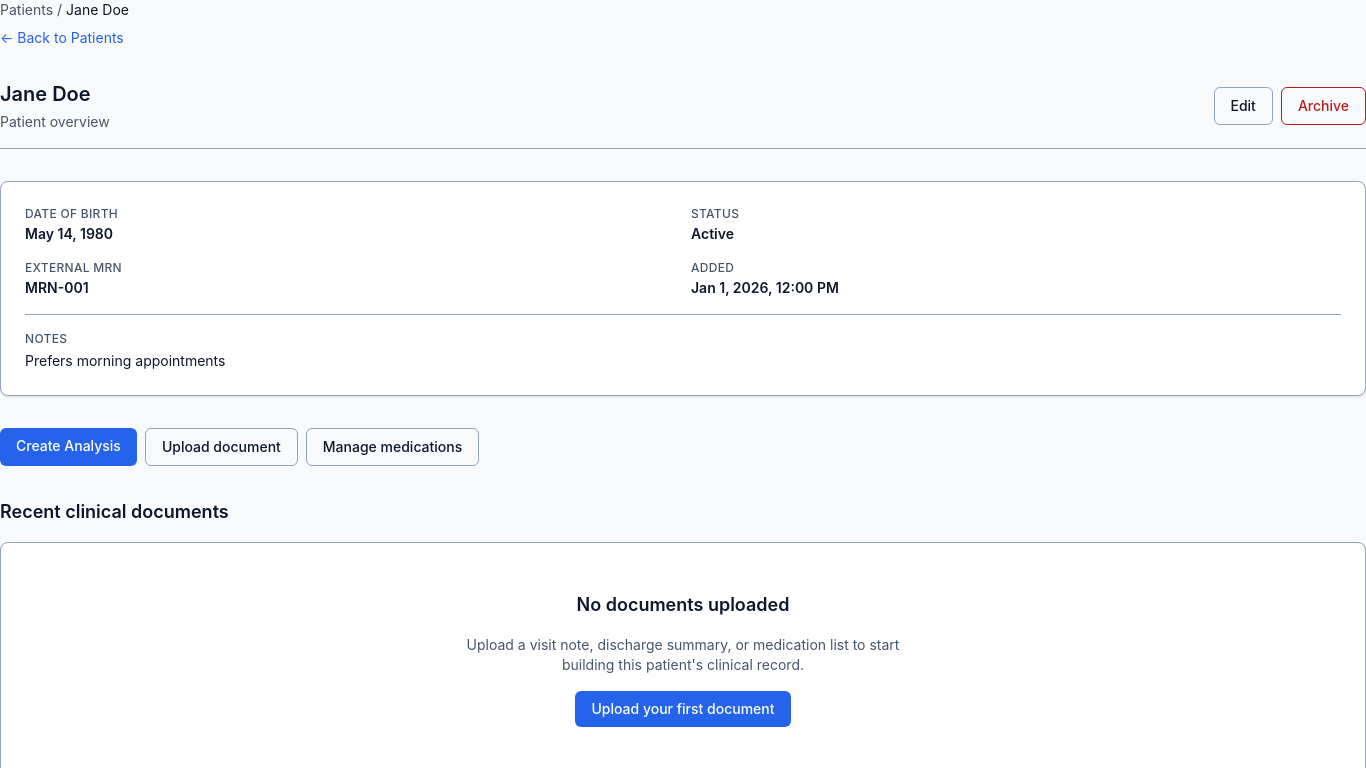
PatientOverviewPage › opens an archive confirmation dialog naming the patient
What coordinates should you click on to do the following:
click the button "Archive"
I would click on:
 (1323, 106)
Its box is [1281,87,1365,125].
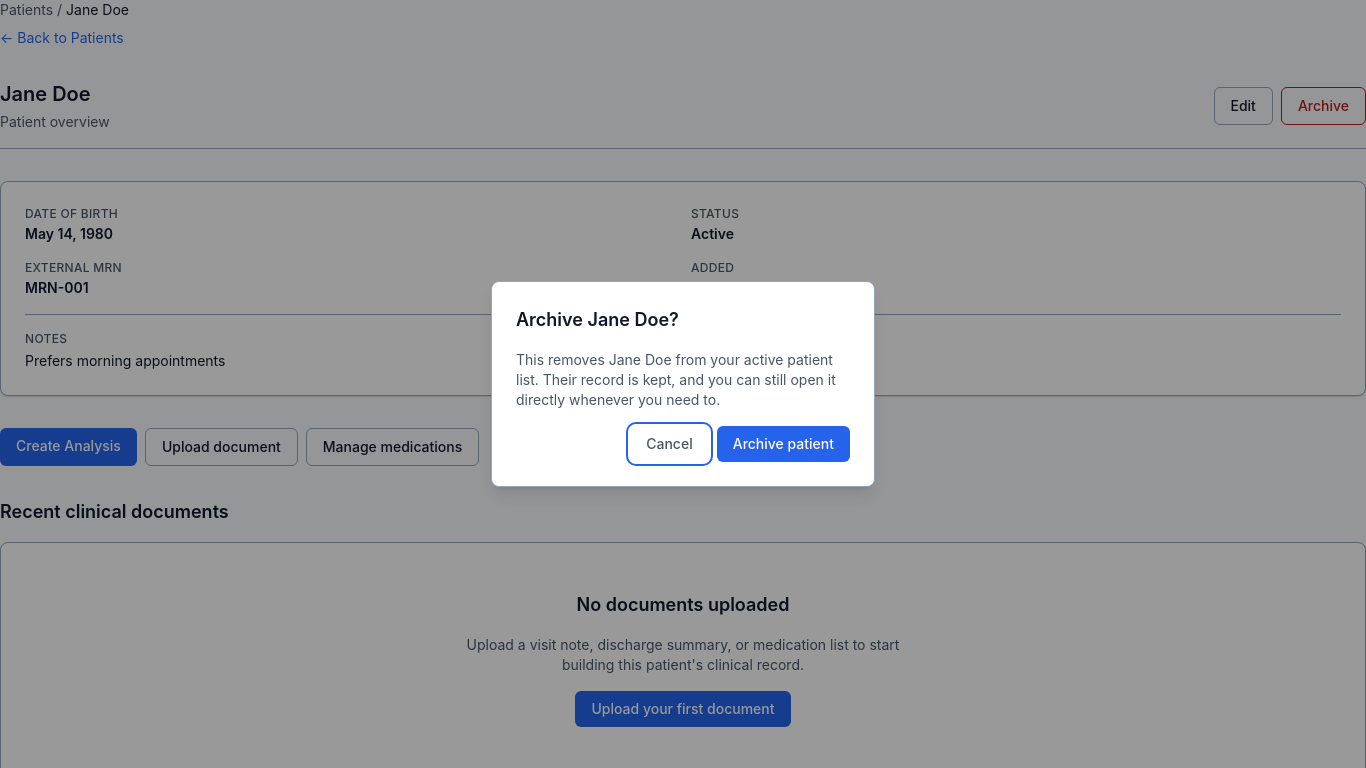
Result: the dialog is shown at [491,281,875,487]
Result: the heading "Archive Jane Doe?" is shown at [516,309,679,330]
